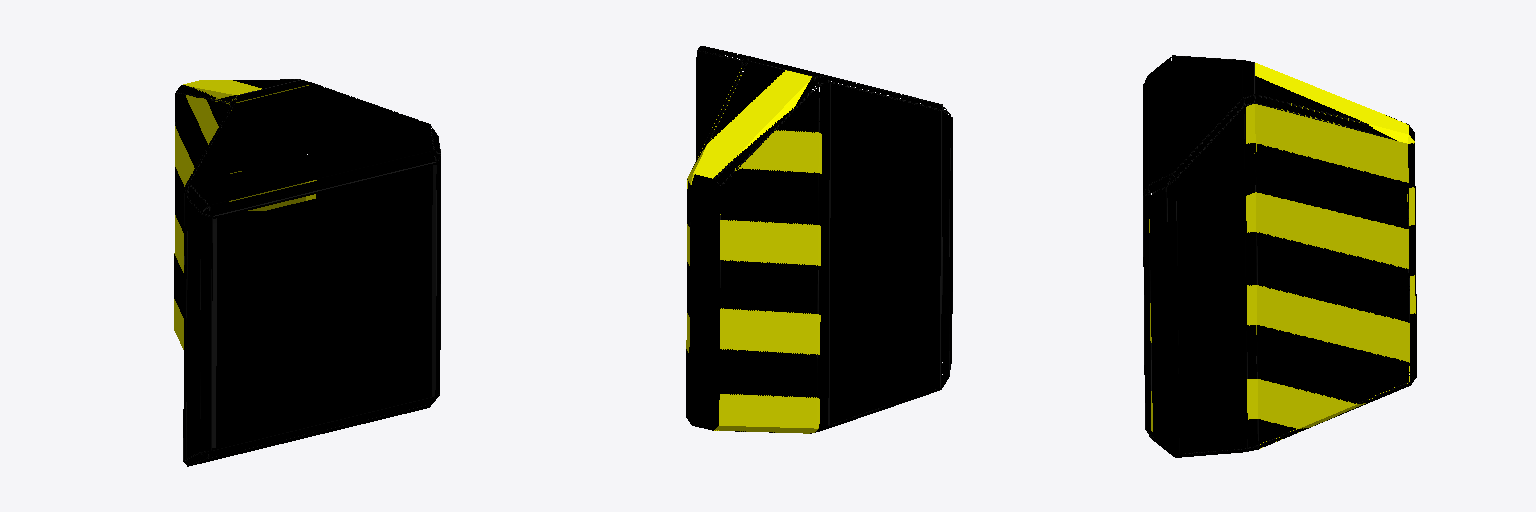
3 views of the same model, side by side, from view 1: azimuth 30°, elevation 25°; view 2: azimuth 150°, elevation 25°; view 3: azimuth 270°, elevation 25° (orthographic).
Parts seen in each view (by area): view 1: Cube; view 2: Cube; view 3: Cube.
Part boxes in pixels (bbox=[...]): Cube: bbox=[174, 79, 440, 466]; Cube: bbox=[686, 46, 952, 433]; Cube: bbox=[1143, 55, 1416, 457].
Bounding box in the file's own units: 2.13 × 2.88 × 2.02.
1 materials, 1 textured.